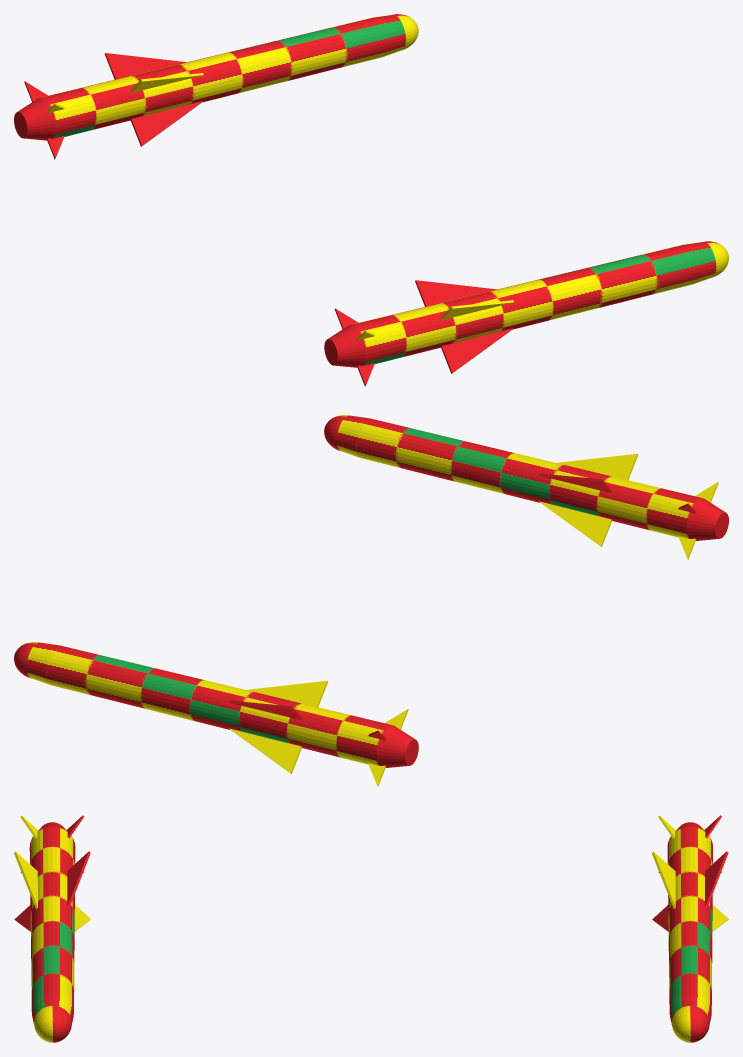
The model's file is asm2tf2a12.glb.
The picture shows the model from 3 angles, top to bottom: view 1: azimuth 30°, elevation 25°; view 2: azimuth 150°, elevation 25°; view 3: azimuth 270°, elevation 25°; orthographic projection. The views are drawn at different scales.
Parts seen in each view (by area): view 1: 球.009, 球.001; view 2: 球.009, 球.001; view 3: 球.009, 球.001.
Part boxes in pixels (x1,y1,x2,y2): 球.009: [324, 241, 728, 386]; 球.001: [14, 14, 418, 159]; 球.009: [324, 415, 728, 559]; 球.001: [14, 642, 418, 786]; 球.009: [14, 815, 90, 1042]; 球.001: [652, 815, 728, 1042].
Bounding box in the file's own units: 5.34 × 0.8755 × 8.12.
3 materials, 3 textured.
